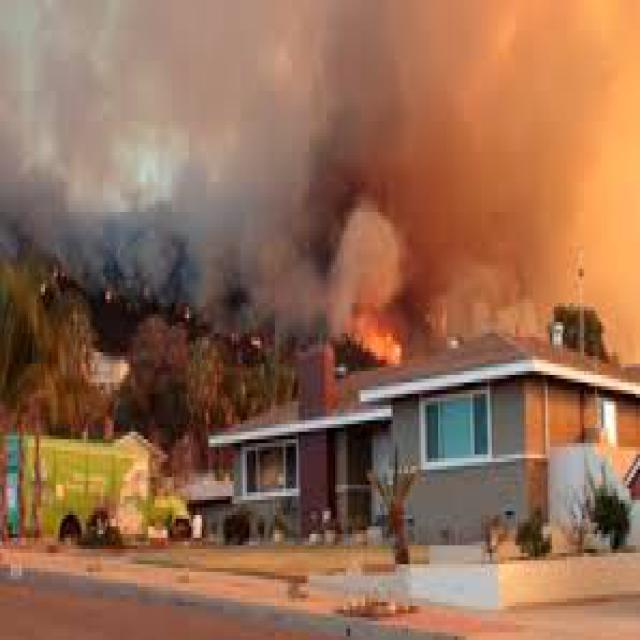smoke: (99, 4, 440, 310)
